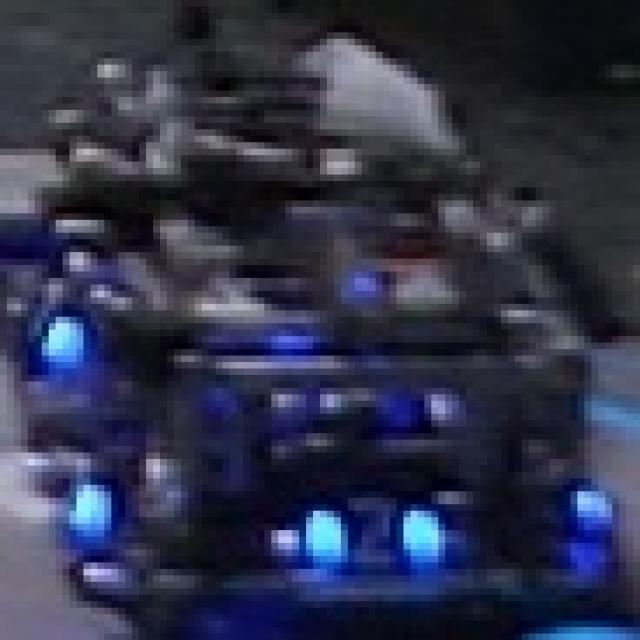B2: (306, 485, 445, 582)
